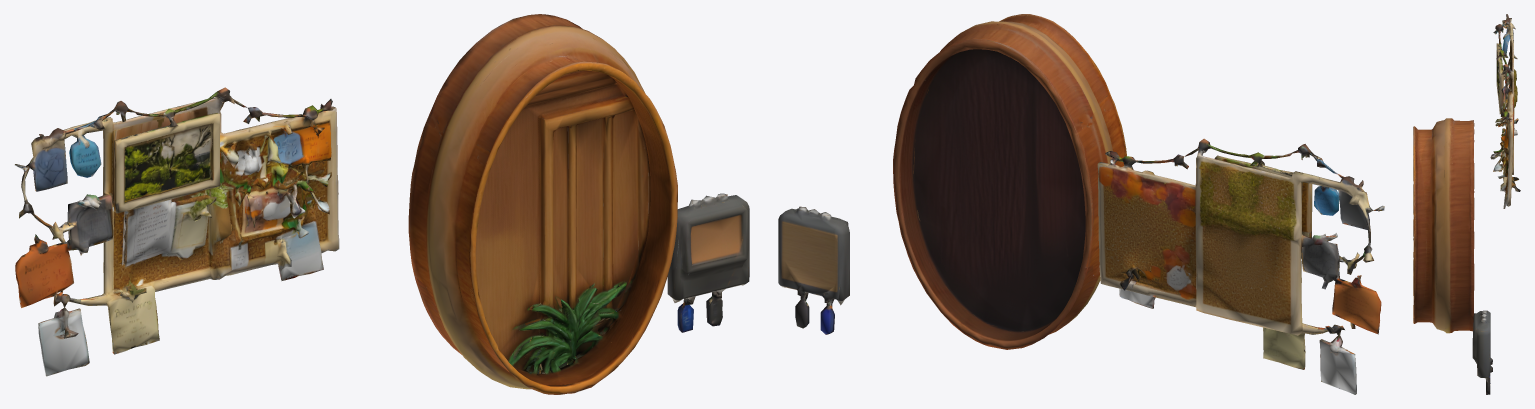
File: Meshy_AI_Reflections_and_Remin_0108003456_texture.fbx
3 views of the same model, side by side, from view 1: azimuth 30°, elevation 25°; view 2: azimuth 150°, elevation 25°; view 3: azimuth 270°, elevation 25° (orthographic). The views are drawn at different scales.
Parts seen in each view (by area): view 1: Mesh_0; view 2: Mesh_0; view 3: Mesh_0.
Boxes of the visible parts, box(x1,y1,x2,y2) form: Mesh_0: box(15, 14, 749, 394); Mesh_0: box(778, 14, 1384, 394); Mesh_0: box(1413, 14, 1520, 394).
Size of the model in its own units: 191 by 95.36 by 43.51.
1 material, 1 textured.
